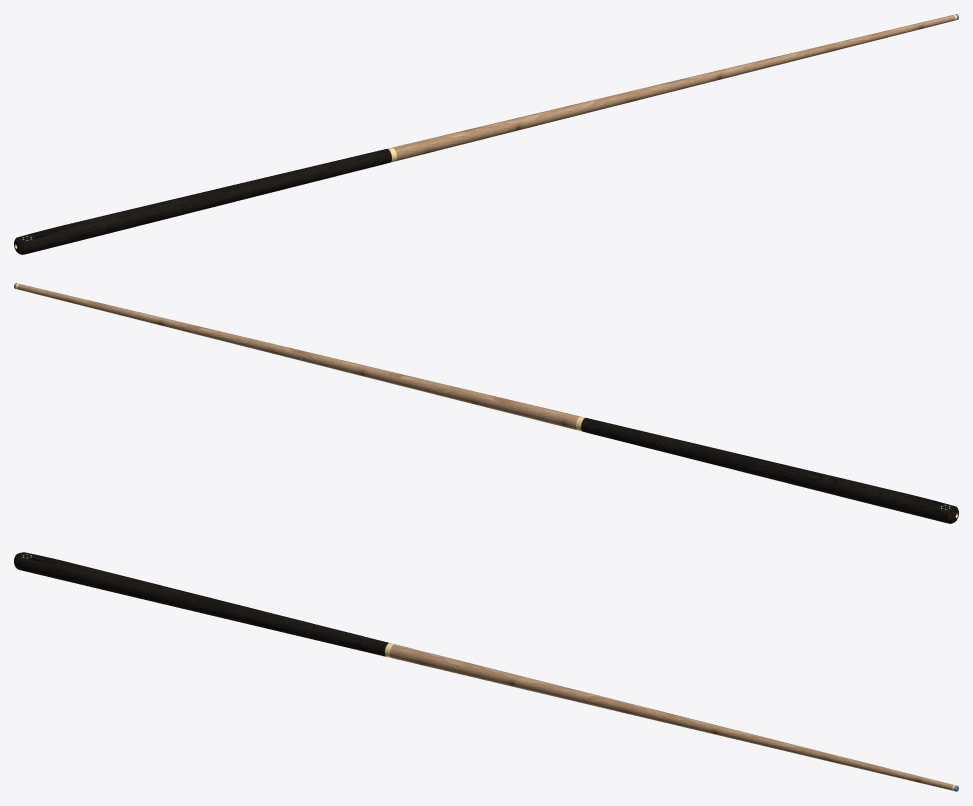
Rendered from cue.obj.
3 views of the same model, one above another, from view 1: azimuth 30°, elevation 25°; view 2: azimuth 150°, elevation 25°; view 3: azimuth 330°, elevation 25° (orthographic).
Parts seen in each view (by area): view 1: Cue; view 2: Cue; view 3: Cue.
Part boxes in pixels (x1,y1,x2,y2): Cue: (14,14,958,254); Cue: (14,283,958,523); Cue: (14,552,958,791).
Size of the model in its own units: 1.49 by 0.0261 by 0.0265.
1 material, 1 textured.
